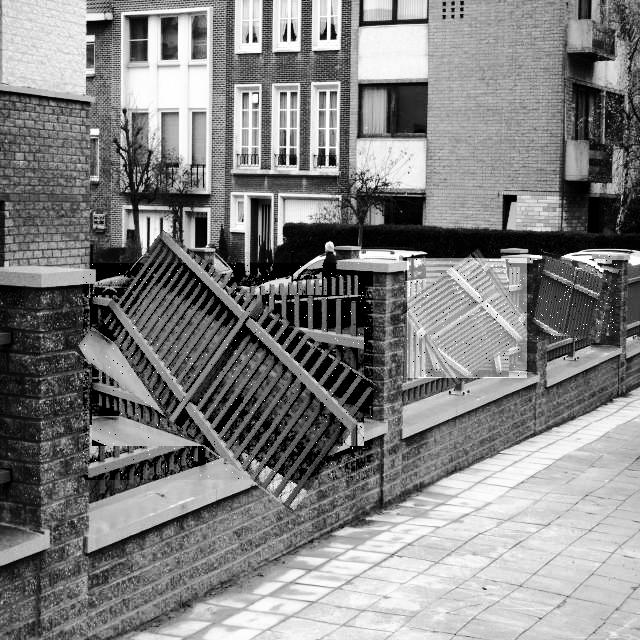fences: (83, 263, 373, 480), (407, 258, 527, 378), (530, 255, 617, 340)
